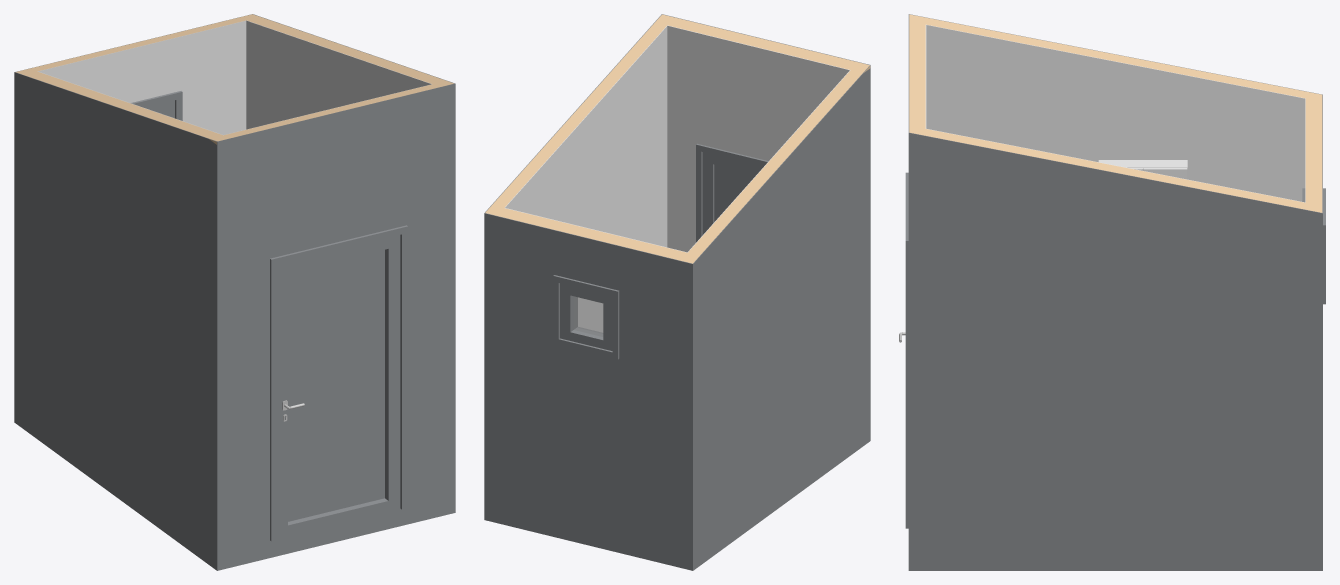
Rendered from Mazesnis San. mazgas_(1,9x2,8).fbx.
3 renders of one model, left to right at view 1: azimuth 30°, elevation 25°; view 2: azimuth 150°, elevation 25°; view 3: azimuth 270°, elevation 25°, orthographic. The views are drawn at different scales.
Visible parts, largest first — view 1: IfcWall/Part:2368366, IfcWall/Part:2319977, IfcDoor/Durys išorinės:1000x2100x120 (dešininės nepermatomo, IfcWall/Part:2319982, IfcWall/Part:2319979, IfcWall/Part:2319981, IfcWall/Part:2368367, IfcWall/Part:2319978, IfcWall/Part:2319984, IfcWindow/Langai (Akrusta):500x500x120:2430598; view 2: IfcWall/Part:2368366, IfcWall/Part:2319983, IfcWall/Part:2319976, IfcWall/Part:2319979, IfcWindow/Langai (Akrusta):500x500x120:2430598, IfcDoor/Durys išorinės:1000x2100x120 (dešininės nepermatomo, IfcWall/Part:2319981, IfcWall/Part:2368367, IfcWall/Part:2319978, IfcWall/Part:2319984, IfcWall/Part:2319977; view 3: IfcWall/Part:2319980, IfcWall/Part:2368365, IfcWall/Part:2368367, IfcWall/Part:2319981, IfcWall/Part:2319984, IfcWall/Part:2319978, IfcDoor/Durys išorinės:1000x2100x120 (dešininės nepermatomo, IfcWall/Part:2319977, IfcFurnishingElement/Sanitary_Mirrors_Roca_LUNA-600-Mirror-c.
Part boxes in pixels (left/top/right/bottom): IfcWall/Part:2368366: left=14, top=72, right=216, bottom=570; IfcWall/Part:2319977: left=217, top=83, right=455, bottom=570; IfcDoor/Durys išorinės:1000x2100x120 (dešininės nepermatomo: left=270, top=225, right=408, bottom=541; IfcWall/Part:2319982: left=37, top=20, right=246, bottom=134; IfcWall/Part:2319979: left=246, top=20, right=431, bottom=129; IfcWall/Part:2319981: left=247, top=17, right=446, bottom=84; IfcWall/Part:2368367: left=24, top=71, right=222, bottom=138; IfcWall/Part:2319978: left=209, top=81, right=453, bottom=144; IfcWall/Part:2319984: left=15, top=14, right=259, bottom=74; IfcWindow/Langai (Akrusta):500x500x120:2430598: left=130, top=91, right=182, bottom=120; IfcWall/Part:2368366: left=693, top=65, right=870, bottom=570; IfcWall/Part:2319983: left=484, top=213, right=693, bottom=570; IfcWall/Part:2319976: left=667, top=25, right=850, bottom=252; IfcWall/Part:2319979: left=505, top=26, right=667, bottom=332; IfcWindow/Langai (Akrusta):500x500x120:2430598: left=553, top=275, right=619, bottom=359; IfcDoor/Durys išorinės:1000x2100x120 (dešininės nepermatomo: left=696, top=143, right=768, bottom=242; IfcWall/Part:2319981: left=492, top=22, right=666, bottom=207; IfcWall/Part:2368367: left=688, top=70, right=862, bottom=255; IfcWall/Part:2319978: left=655, top=14, right=870, bottom=72; IfcWall/Part:2319984: left=485, top=205, right=699, bottom=263; IfcWall/Part:2319977: left=662, top=14, right=870, bottom=440; IfcWall/Part:2319980: left=909, top=132, right=1322, bottom=570; IfcWall/Part:2368365: left=926, top=24, right=1305, bottom=201; IfcWall/Part:2368367: left=925, top=17, right=1305, bottom=98; IfcWall/Part:2319981: left=925, top=129, right=1305, bottom=209; IfcWall/Part:2319984: left=1305, top=91, right=1322, bottom=212; IfcWall/Part:2319978: left=909, top=14, right=925, bottom=135; IfcDoor/Durys išorinės:1000x2100x120 (dešininės nepermatomo: left=905, top=172, right=908, bottom=528; IfcWall/Part:2319977: left=908, top=14, right=909, bottom=570; IfcFurnishingElement/Sanitary_Mirrors_Roca_LUNA-600-Mirror-c: left=1098, top=160, right=1187, bottom=179.
Size of the model in its own units: 190 by 328 by 289.
